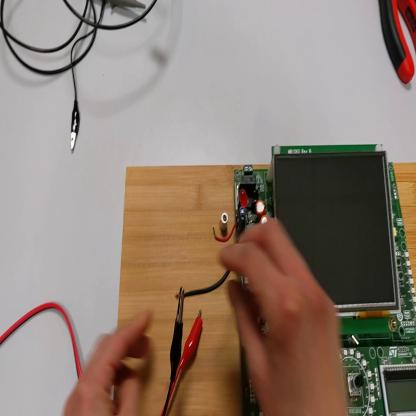hand: (219, 225, 347, 415), (63, 306, 153, 415)
low voltage board: (174, 143, 416, 415)
oscilloscope probe tip: (96, 2, 147, 14)
pliers: (380, 1, 416, 86)
working area: (112, 163, 416, 415)
